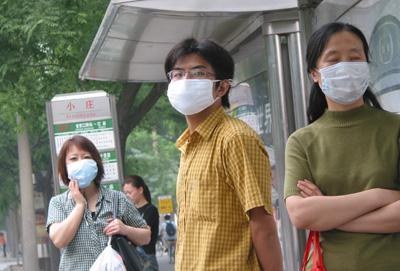NONE: (126, 184, 142, 204)
OK: (318, 46, 373, 101), (165, 63, 215, 113), (66, 152, 100, 186)
